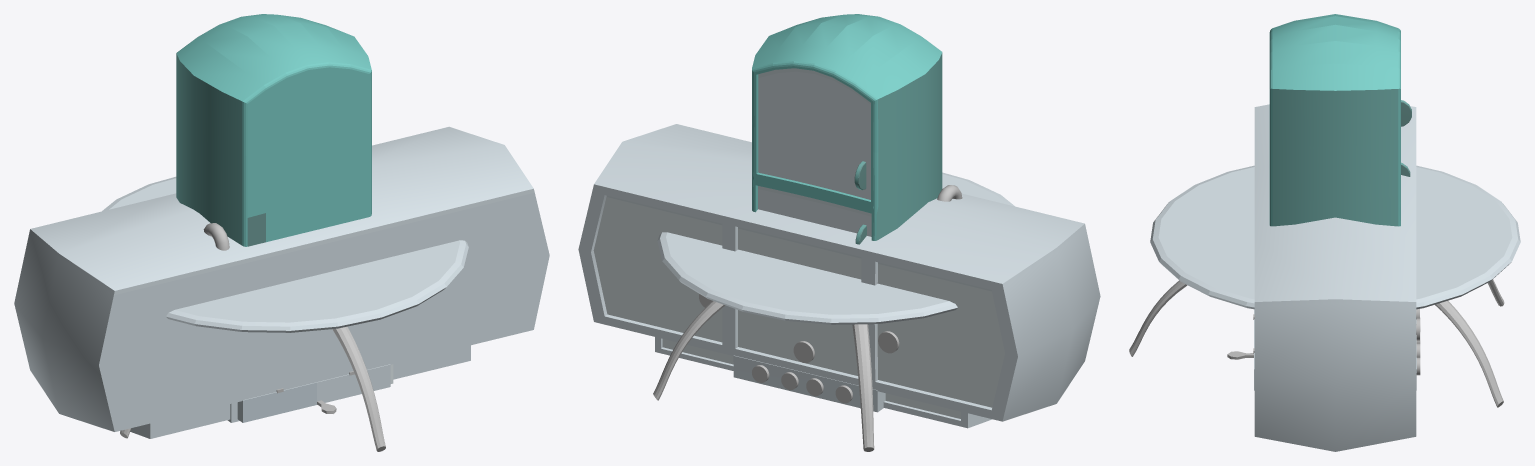
Rendered from mutfak_objeler.fbx.
3 views of the same model, side by side, from view 1: azimuth 30°, elevation 25°; view 2: azimuth 150°, elevation 25°; view 3: azimuth 270°, elevation 25° (orthographic). The views are drawn at different scales.
Visible parts, largest first — view 1: dolap_ust3, buzdolabi1, msa, ocak, musluk1; view 2: dolap_ust3, buzdolabi1, msa, ocak, musluk1; view 3: dolap_ust3, buzdolabi1, msa.
Part boxes in pixels (x1,y1,x2,y2): dolap_ust3: (14, 126, 549, 431); buzdolabi1: (176, 14, 371, 246); msa: (102, 176, 468, 451); ocak: (237, 364, 390, 422); musluk1: (130, 223, 470, 438); dolap_ust3: (578, 124, 1100, 421); buzdolabi1: (752, 14, 942, 244); msa: (653, 172, 1014, 451); ocak: (733, 355, 885, 412); musluk1: (655, 185, 991, 428); dolap_ust3: (1254, 104, 1419, 451); buzdolabi1: (1269, 14, 1411, 226); msa: (1129, 165, 1520, 407).
Size of the model in its own units: 11.65 by 8.16 by 8.64.
